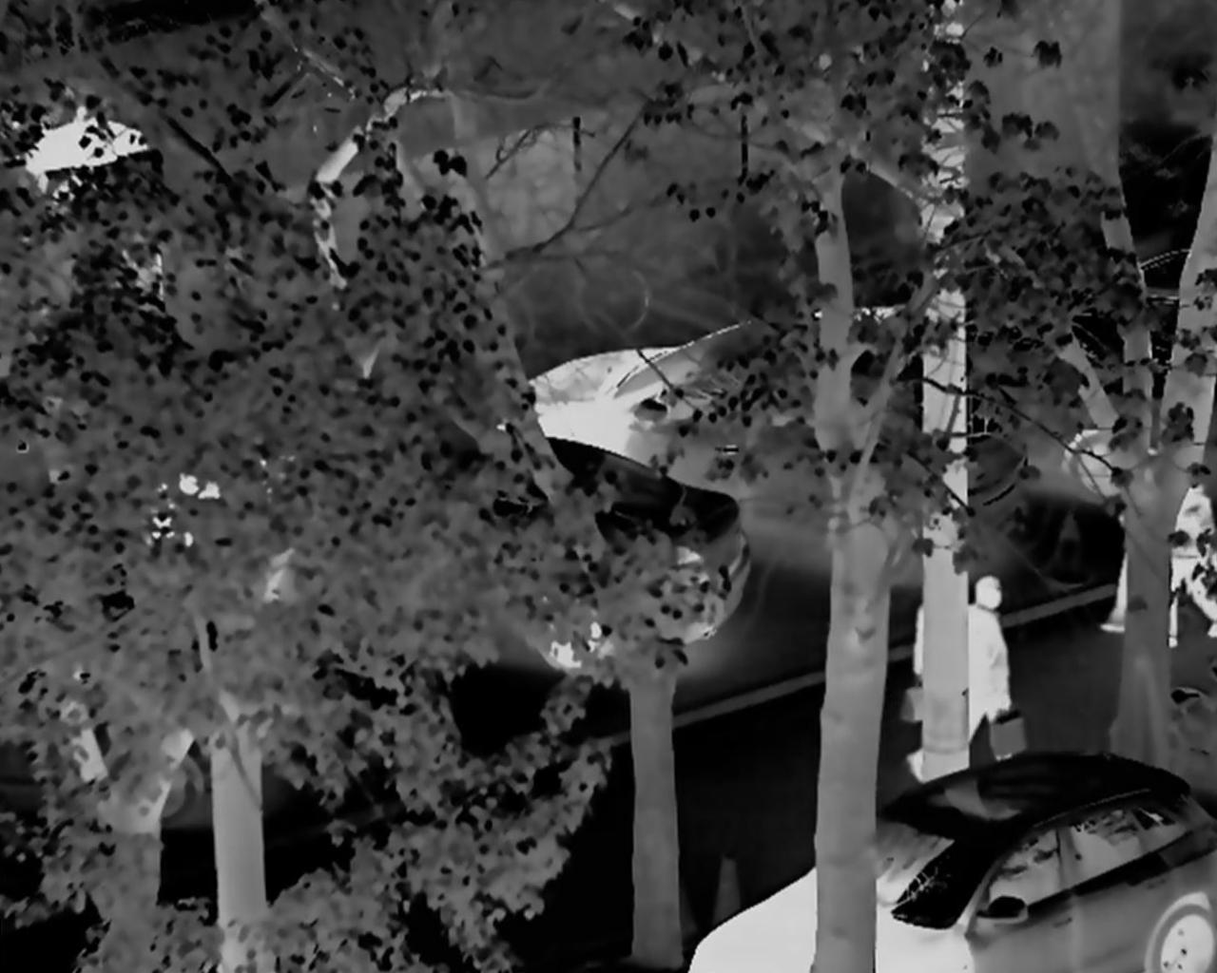person: (908, 563, 962, 787), (1090, 455, 1154, 636), (958, 572, 1017, 761), (1170, 448, 1217, 646)
